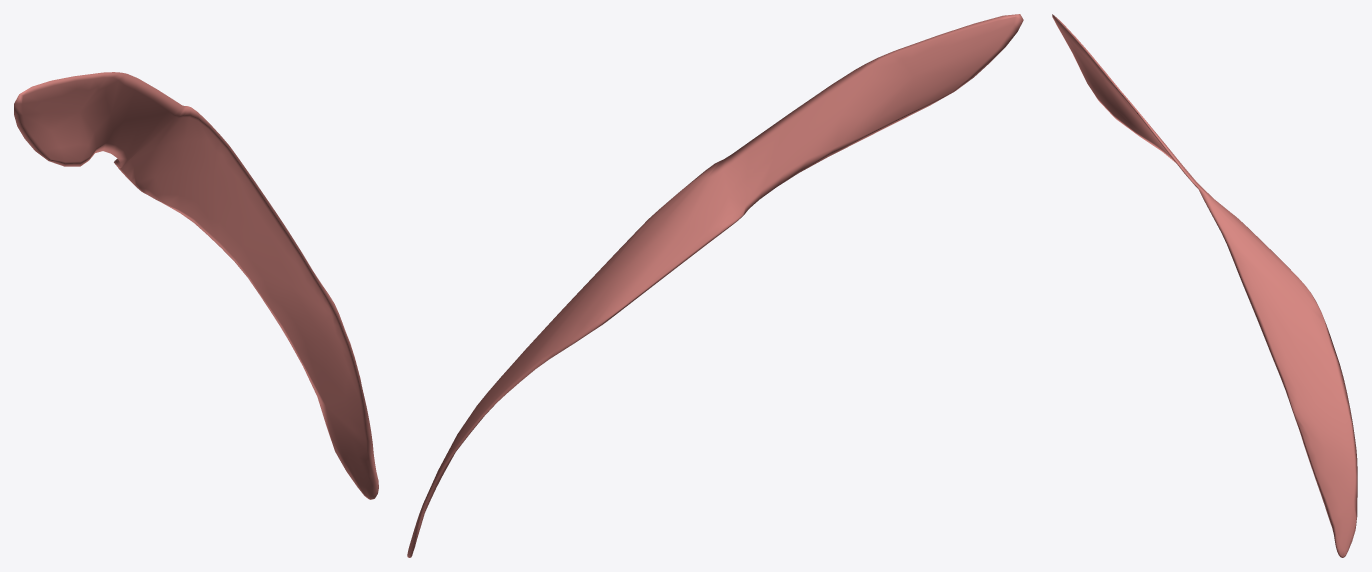
The picture shows the model from 3 angles, left to right: view 1: azimuth 30°, elevation 25°; view 2: azimuth 150°, elevation 25°; view 3: azimuth 270°, elevation 25°; orthographic projection. The views are drawn at different scales.
Visible parts, largest first — view 1: ZA_3686bc99e5db249a; view 2: ZA_3686bc99e5db249a; view 3: ZA_3686bc99e5db249a.
Boxes of the visible parts, x1,y1,x2,y2 form: ZA_3686bc99e5db249a: [14, 72, 378, 499]; ZA_3686bc99e5db249a: [407, 14, 1023, 557]; ZA_3686bc99e5db249a: [1052, 14, 1357, 557].
Bounding box in the file's own units: 0.0483 × 0.0549 × 0.0393.
